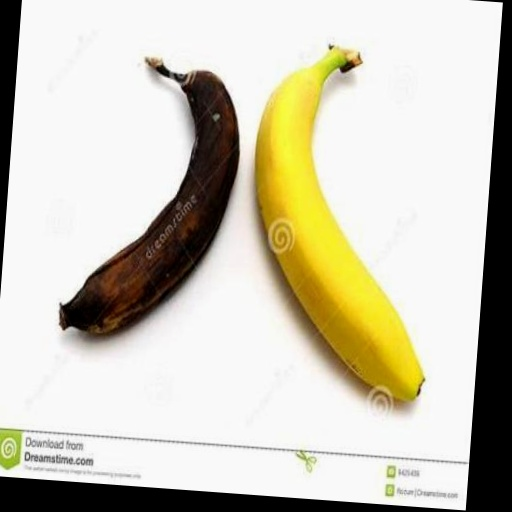fruit: (256, 47, 423, 400), (60, 58, 239, 333)
